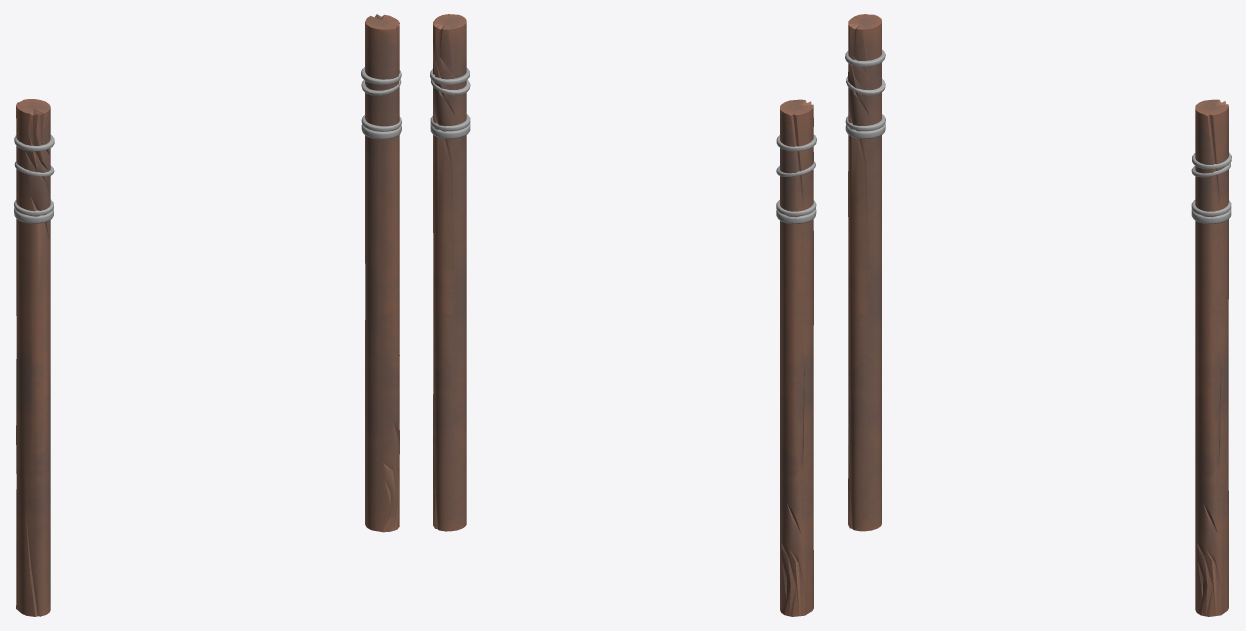
The model's file is Pole_L.fbx.
3 views of the same model, side by side, from view 1: azimuth 30°, elevation 25°; view 2: azimuth 150°, elevation 25°; view 3: azimuth 330°, elevation 25° (orthographic).
Parts seen in each view (by area): view 1: MeshBaker_mesh_mesh; view 2: MeshBaker_mesh_mesh; view 3: MeshBaker_mesh_mesh.
Boxes of the visible parts, x1=… form: MeshBaker_mesh_mesh: x1=14, y1=14, x2=401, y2=616; MeshBaker_mesh_mesh: x1=430, y1=14, x2=816, y2=616; MeshBaker_mesh_mesh: x1=845, y1=14, x2=1231, y2=616.
Bounding box in the file's own units: 1379 × 1738 × 136.
1 material, 1 textured.
